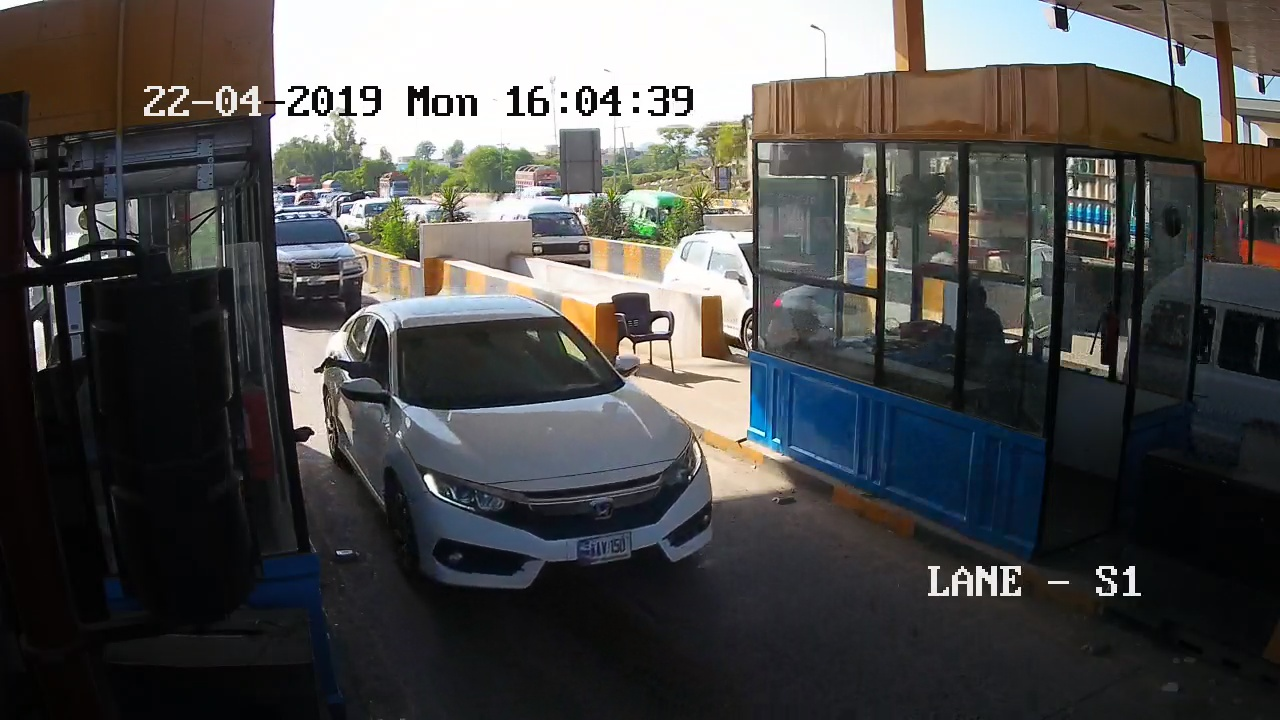Number Plate (Car): (576, 533, 631, 566)
